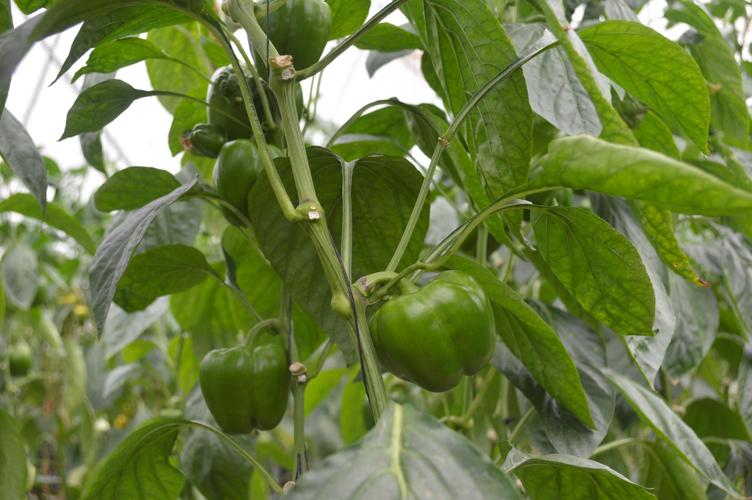BellPepper: (369, 264, 506, 387), (199, 343, 305, 434), (196, 54, 292, 139), (209, 134, 283, 224), (251, 1, 337, 67)
